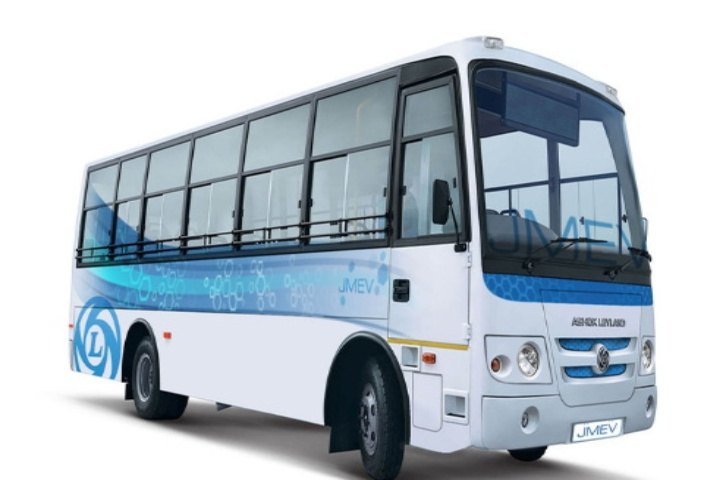bus: (65, 26, 672, 472)
